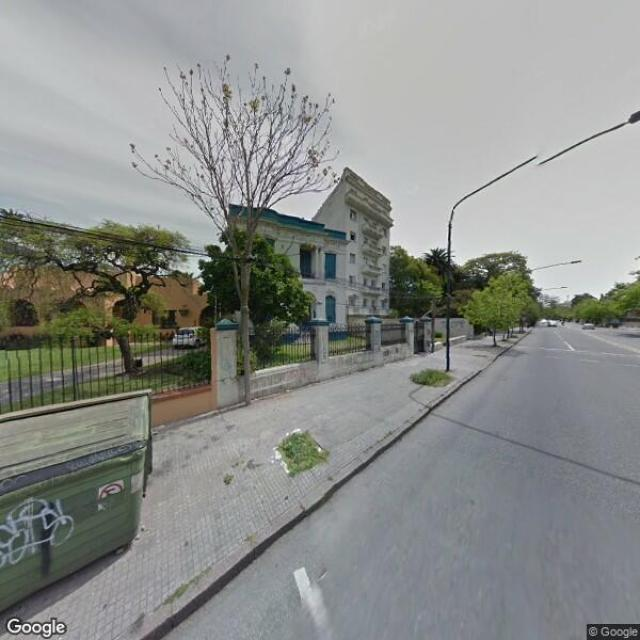garbage container: (2, 384, 168, 624)
